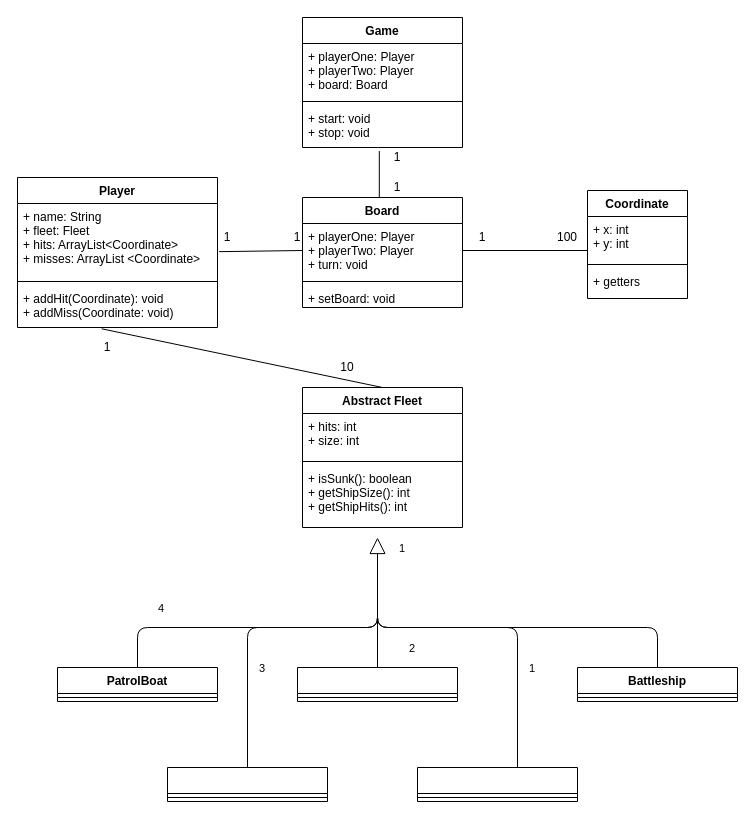
Some shapes in this 755 by 819 pixel diagram are drawn without their labels. The shapes that lost their labels are listed below. From the top down, each one's centre as x and y in pixels, then its label:
At (x=377, y=684): "Destoyer".
At (x=247, y=784): "Submarine".
At (x=497, y=784): "AirCraftCarrier".
